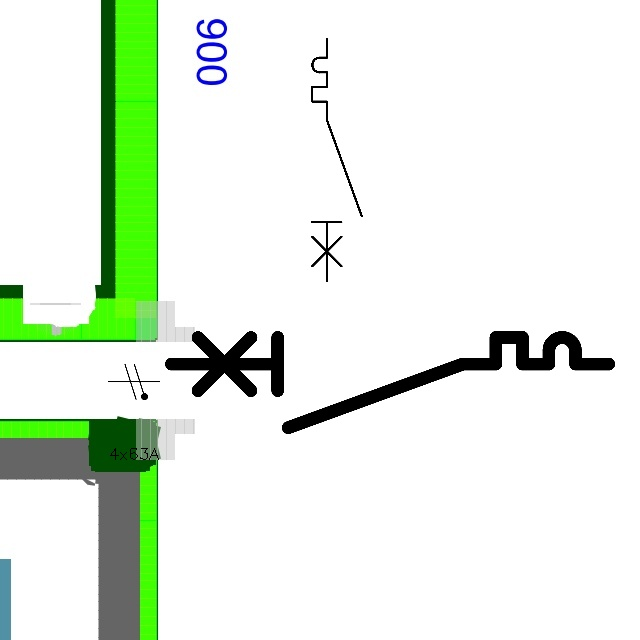interruptor_termomagnetico: (160, 326, 620, 438), (306, 33, 368, 287)
